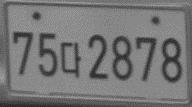2: (87, 33, 109, 80)
5: (36, 31, 58, 77)
7: (134, 36, 157, 83), (12, 30, 33, 76)
8: (161, 37, 182, 81), (112, 35, 132, 81)
다: (59, 40, 82, 80)
